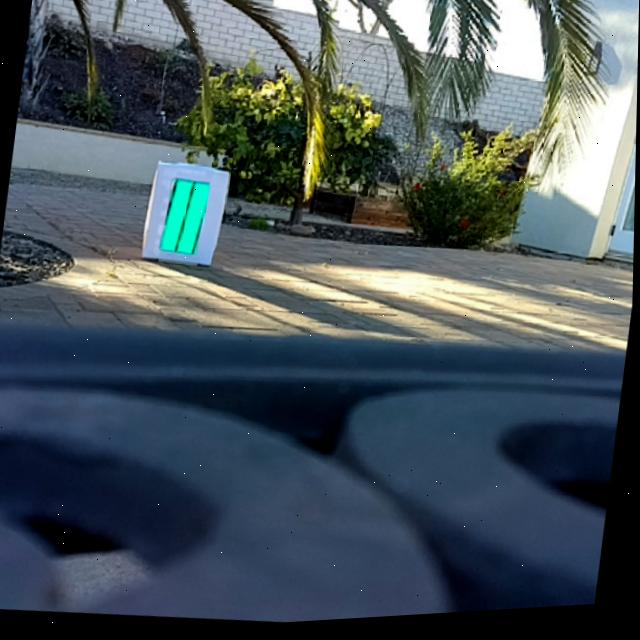led: (158, 176, 212, 261)
